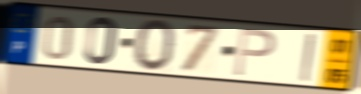0: (82, 15, 118, 66), (40, 14, 78, 61)
7: (180, 23, 220, 75)
I: (299, 31, 317, 84)
O: (133, 18, 178, 74)
P: (232, 27, 277, 79)
